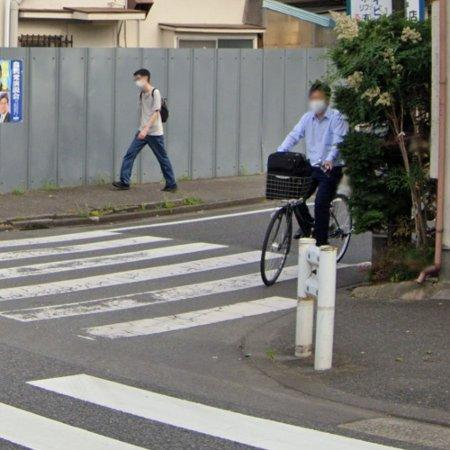crosswalks: (0, 228, 303, 343)
